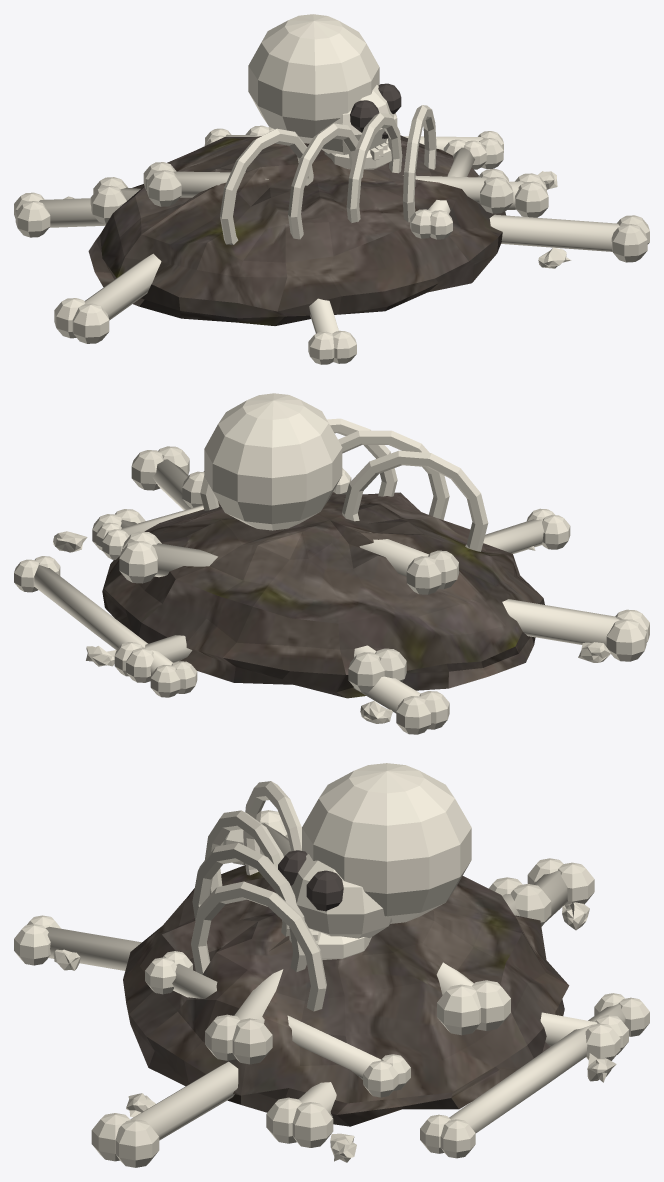
File: bone_pile.glb
3 renders of one model, top to bottom at view 1: azimuth 30°, elevation 25°; view 2: azimuth 150°, elevation 25°; view 3: azimuth 270°, elevation 25°, orthographic. The views are drawn at different scales.
Parts seen in each view (by area): view 1: model; view 2: model; view 3: model.
Boxes of the visible parts, bbox=[...] form: model: bbox=[14, 14, 649, 364]; model: bbox=[14, 393, 649, 734]; model: bbox=[14, 763, 649, 1167].
Bounding box in the file's own units: 0.8898 × 0.3276 × 0.7299.
7 materials, 1 textured.
